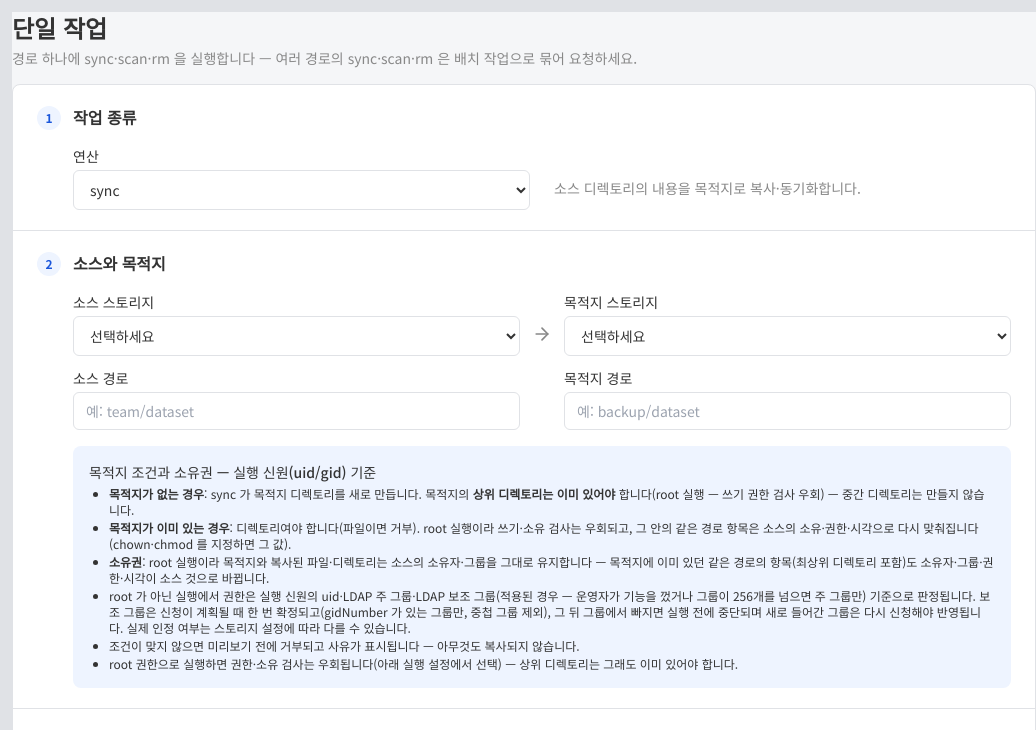
Test case: 연산을 고르면 옆에 무엇이 일어나는지 한 줄로 말하고, 대상 구획 제목이 바뀐다
Expected: the text "소스 디렉토리의 내용을 목적지로 복사·동기화합니다." is shown, top-left (554, 178), bottom-right (861, 198)
Step 1. Select "scan" in the dropdown labelled "연산" → (302,190), box top-left (73, 170), bottom-right (530, 210)
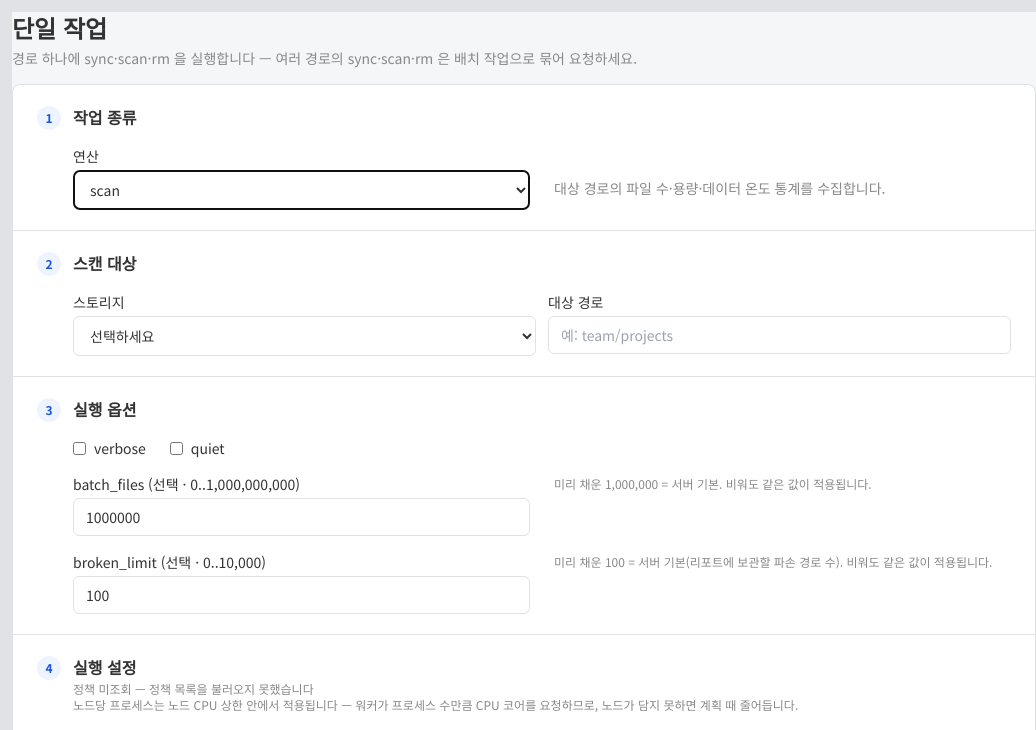
Now the text "대상 경로의 파일 수·용량·데이터 온도 통계를 수집합니다." is shown, box top-left (554, 178), bottom-right (886, 198)
Now the heading "스캔 대상" is shown, box top-left (73, 251), bottom-right (136, 275)
Step 2. Select "rm" in the dropdown labelled "연산" → (302,190), box top-left (73, 170), bottom-right (530, 210)
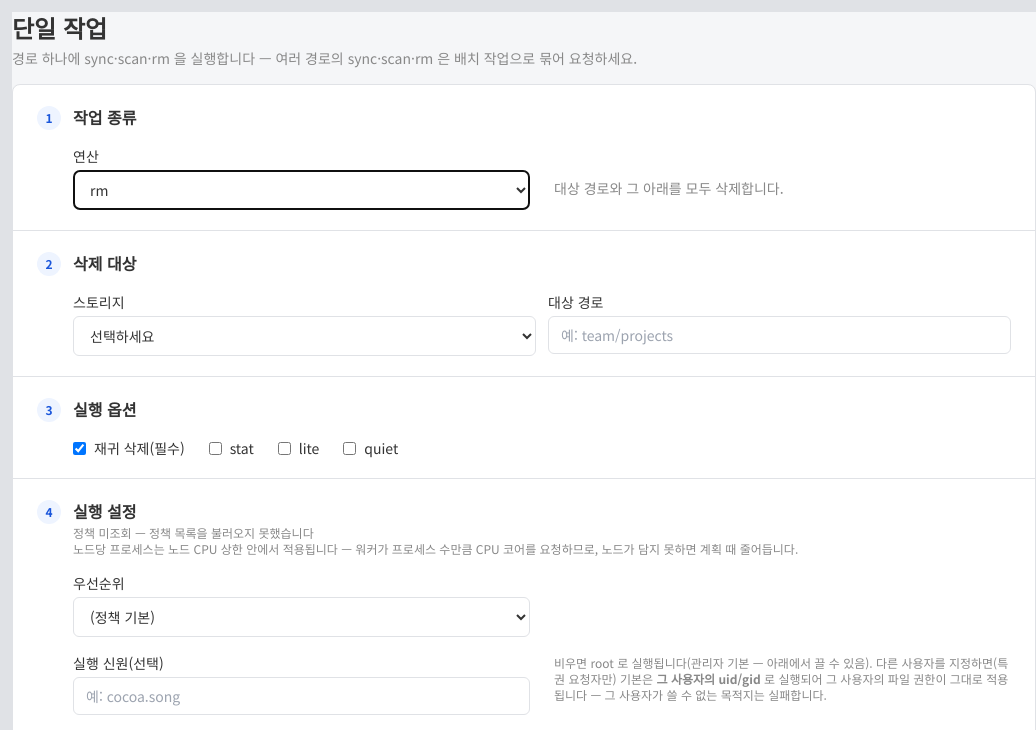
Now the text "대상 경로와 그 아래를 모두 삭제합니다." is shown, box top-left (554, 178), bottom-right (784, 198)
Now the heading "삭제 대상" is shown, box top-left (73, 251), bottom-right (136, 275)
